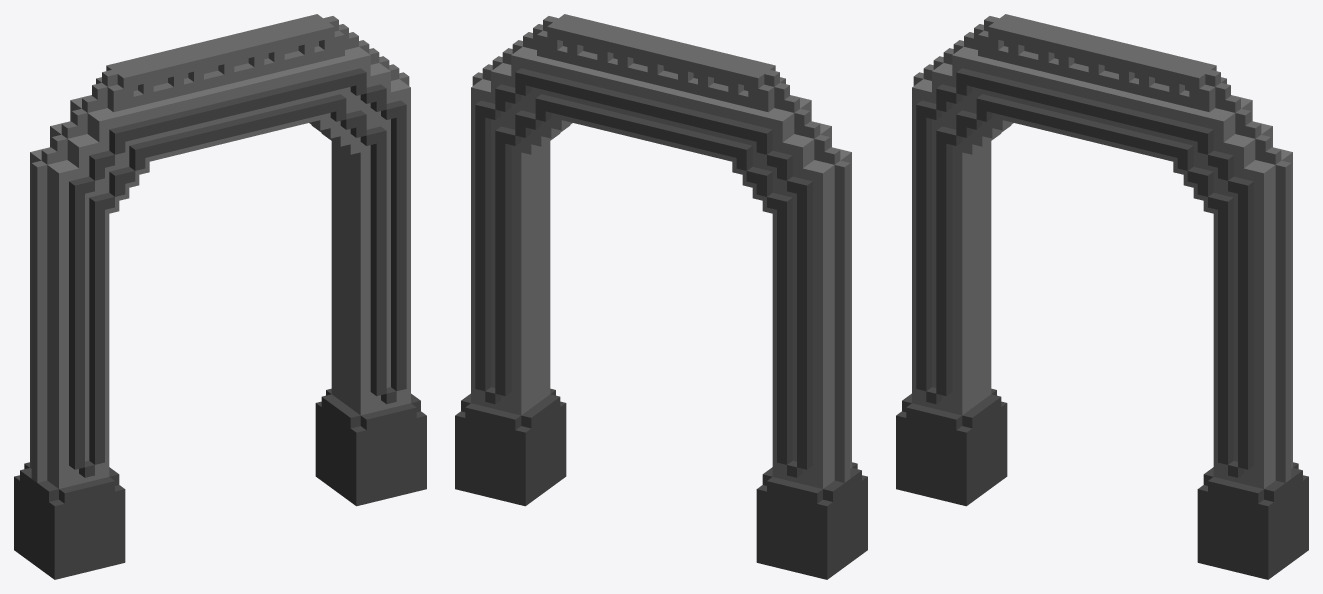
Rendered from Portal.obj.
3 views of the same model, side by side, from view 1: azimuth 30°, elevation 25°; view 2: azimuth 150°, elevation 25°; view 3: azimuth 330°, elevation 25° (orthographic).
Size of the model in its own units: 3.7 by 4.5 by 0.7.
1 material, 1 textured.
